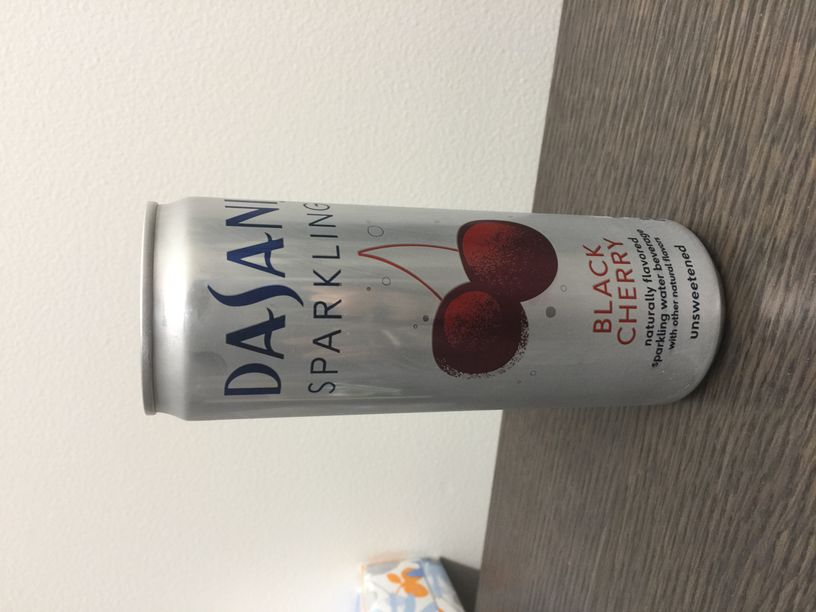blackcherry: (351, 205, 641, 398)
